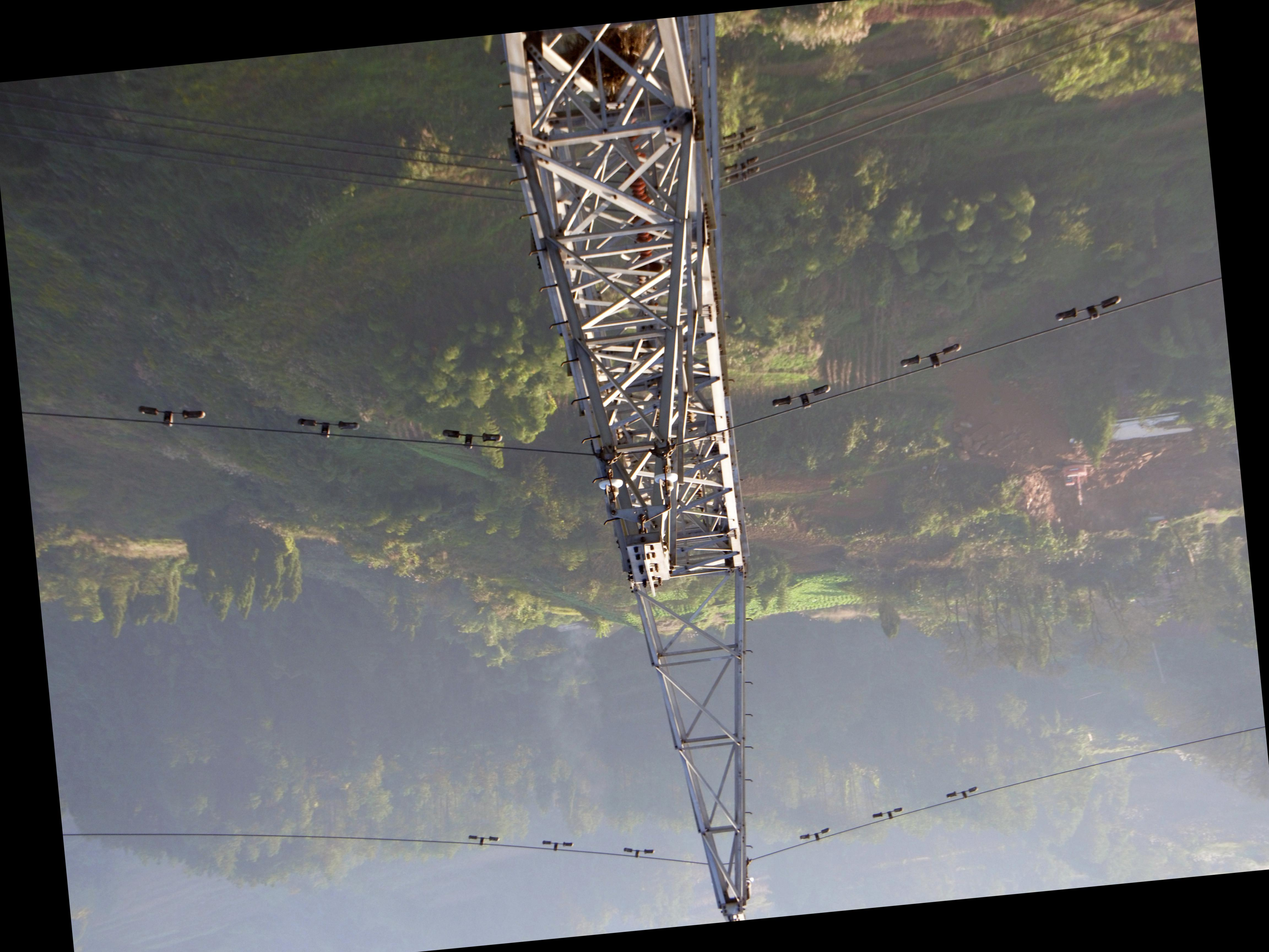damper_defect: (134, 396, 210, 434), (895, 338, 967, 376), (1051, 292, 1127, 328), (768, 380, 836, 416), (293, 410, 363, 444), (439, 421, 506, 455), (943, 784, 982, 803), (798, 826, 833, 844), (540, 836, 575, 854), (870, 806, 906, 823), (622, 843, 656, 861), (467, 831, 502, 848)
